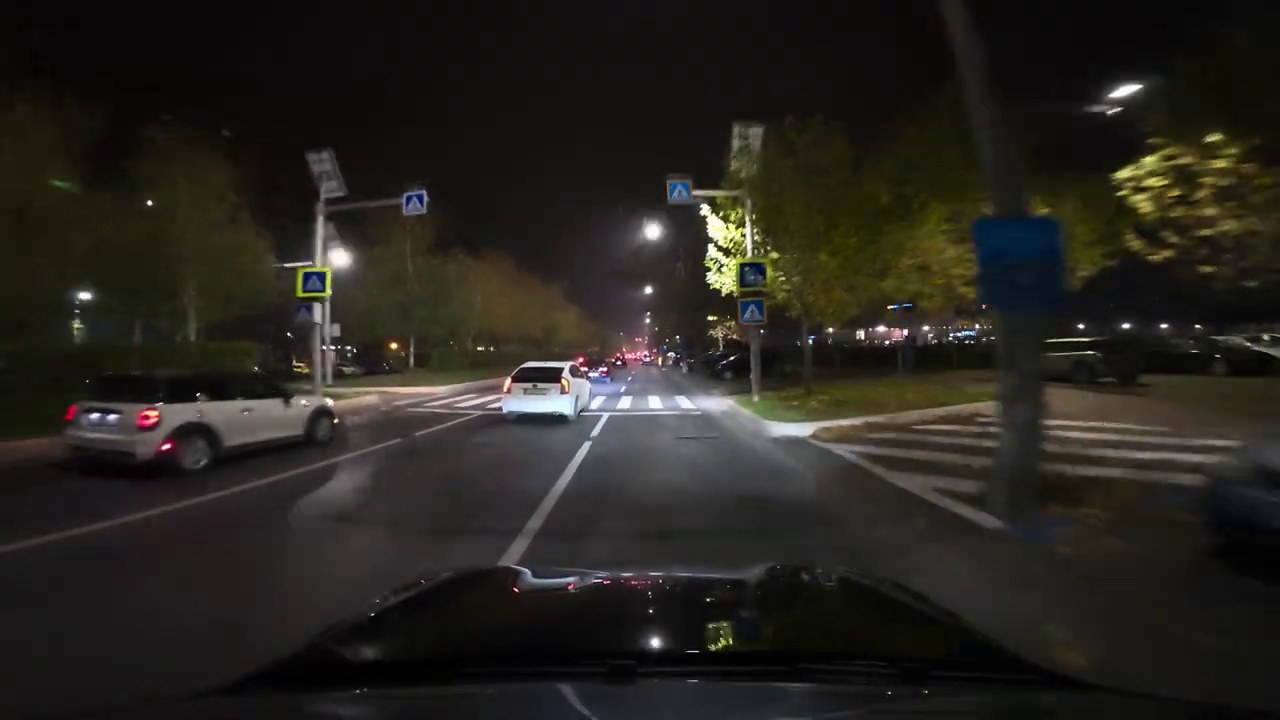acesa: (639, 218, 665, 245), (329, 246, 353, 270)
